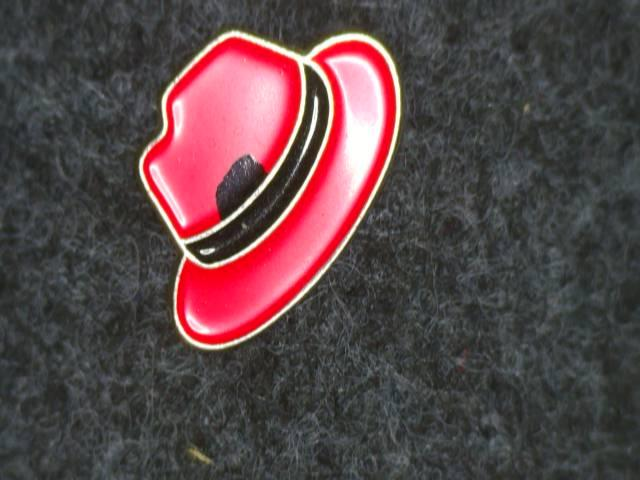Red-Hat: (111, 7, 417, 371)
Scratch: (207, 143, 293, 237)
